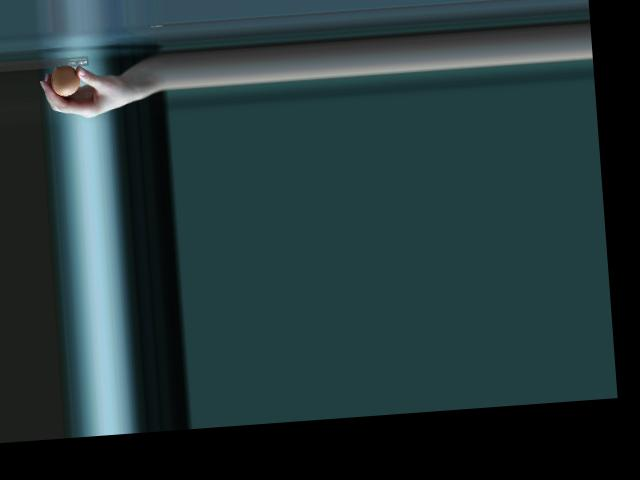egg: (49, 63, 81, 97)
